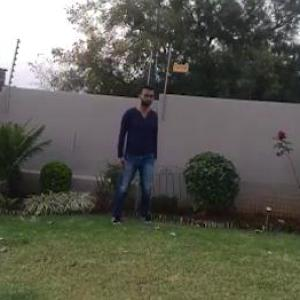follow: (112, 84, 159, 229)
